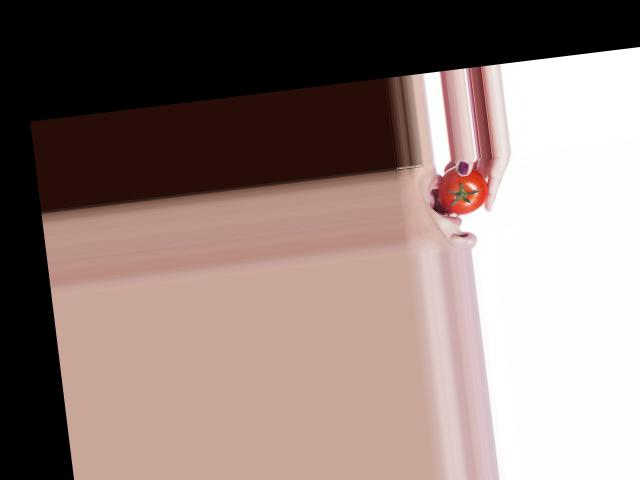tomato: (436, 162, 491, 216)
